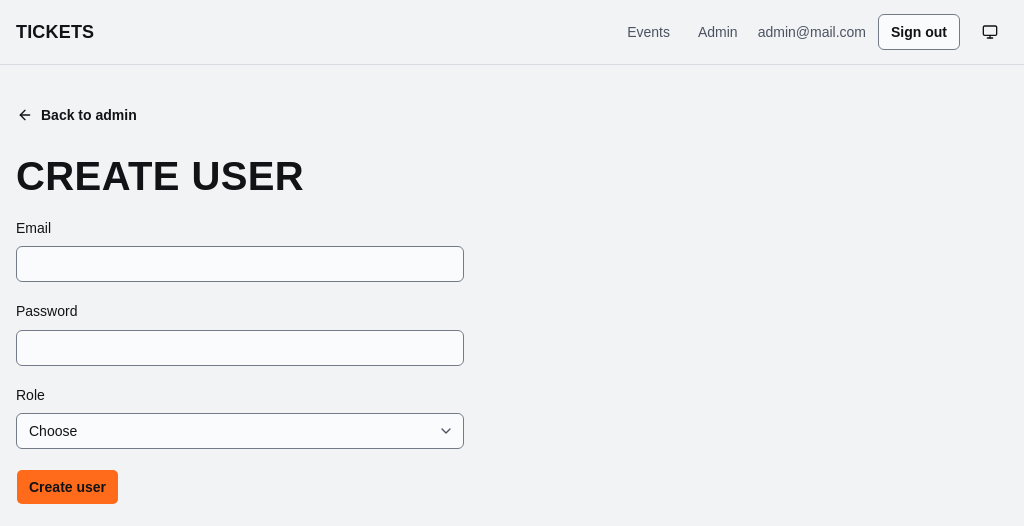
Test: admin flow › does not keep the password of a new user anywhere in the browser
Type "boss@mail.com" into the field labelled "Email" at {"x": 240, "y": 264}, box [16, 246, 464, 282]
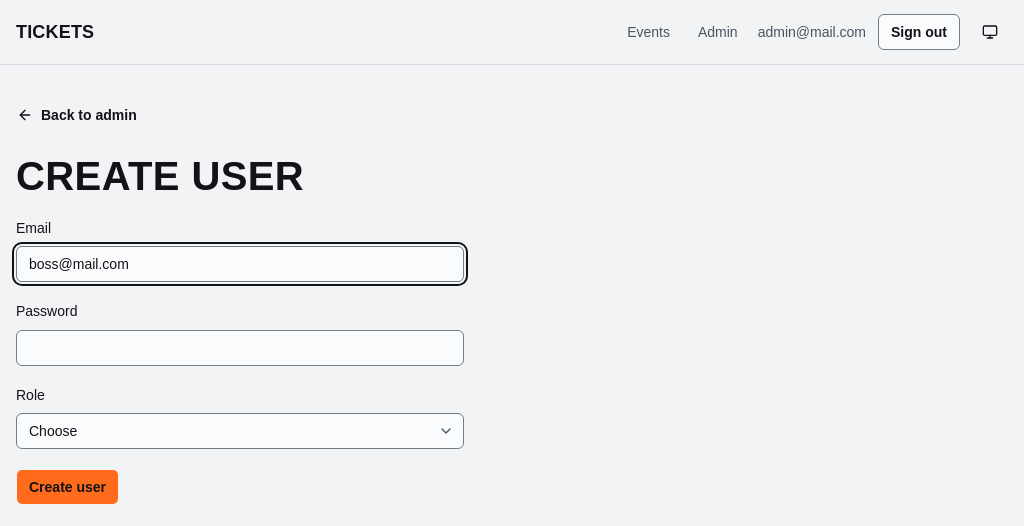
Type "Sup3r-Secret-Pw-42" into the password field labelled "Password" at {"x": 240, "y": 348}, box [16, 330, 464, 366]
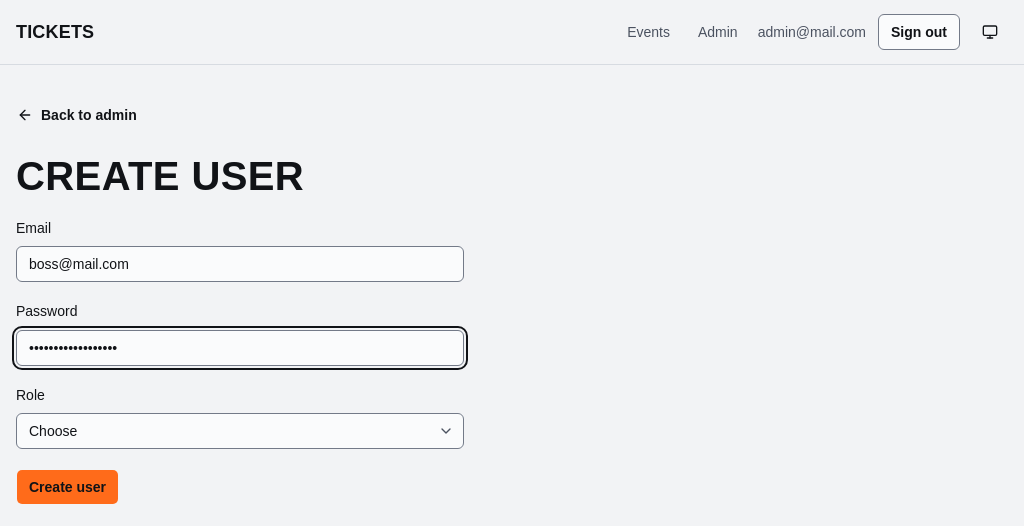
Select "Admin" in the dropdown labelled "Role" at {"x": 240, "y": 431}, box [16, 413, 464, 449]
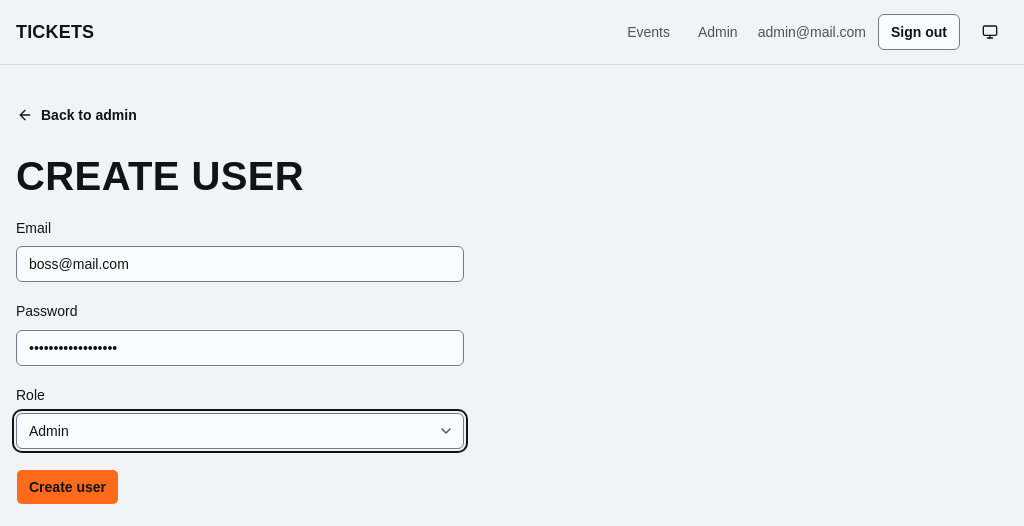
Click the button "Create user" at {"x": 68, "y": 487}, box [16, 469, 119, 505]
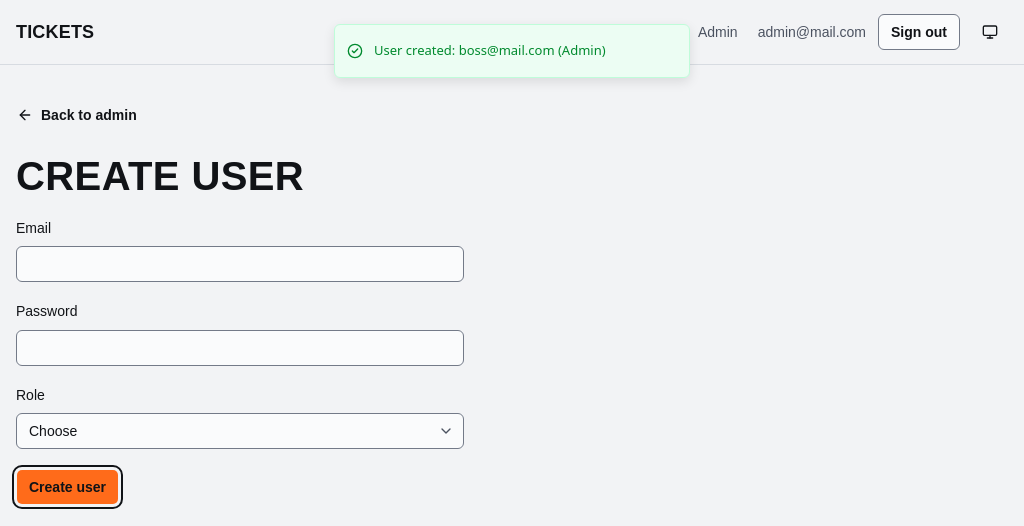
Expected: the text "User created: boss@mail.com (Admin)" is shown, [374, 41, 606, 60]
Expected: the password field labelled "Password" is empty, [16, 330, 464, 366]
